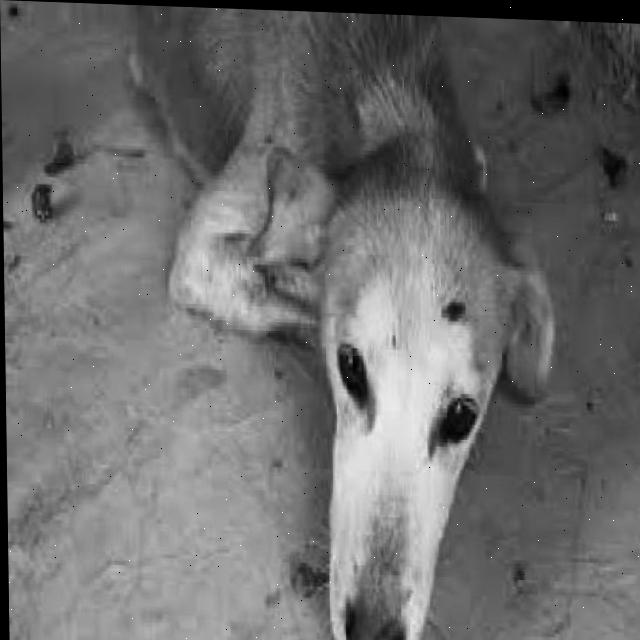Dog: (123, 5, 564, 640)
